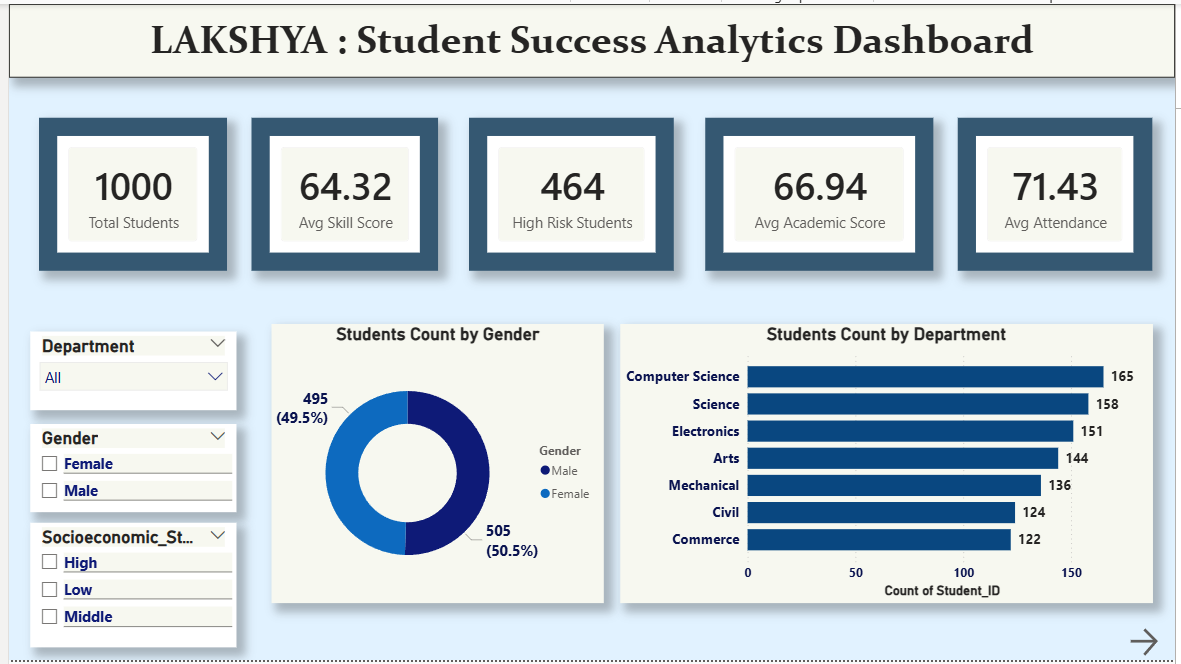

The dashboard page shown, as its layout file describes it:
{"tool":"powerbi","page":{"name":"Page 1","canvas":[1280,720],"ordinal":0},"visuals":[{"type":"cardVisual","fields":{"Data":["Sheet1.Total Students"]},"box":[33.3,125,206.7,168.3],"z":0},{"type":"textbox","box":[0,0,1280.3,81],"z":1000},{"type":"cardVisual","fields":{"Data":["Sheet1.Avg Academic Score"]},"box":[765,125,250,168.3],"z":2000},{"type":"cardVisual","fields":{"Data":["Sheet1.High Risk Students"]},"box":[505,125,225,168.3],"z":3000},{"type":"cardVisual","fields":{"Data":["Sheet1.Avg Attendance"]},"box":[1041.7,125,213.3,168.3],"z":4000},{"type":"cardVisual","fields":{"Data":["Sheet1.Avg Skill Score"]},"box":[266.7,125,205,168.3],"z":5000},{"type":"slicer","fields":{"Values":["Sheet1.Department"]},"box":[23.3,360,226.7,86.7],"z":6000},{"type":"slicer","fields":{"Values":["Sheet1.Gender"]},"box":[23.3,461.7,226.7,96.7],"z":7000},{"type":"slicer","fields":{"Values":["Sheet1.Socioeconomic_Status"]},"box":[23.3,570,226.7,136.7],"z":8000},{"type":"donutChart","title":"Students Count by Gender","fields":{"Category":["Sheet1.Gender"],"Y":["CountNonNull(Sheet1.Student_ID)"]},"box":[288.2,351.3,365,306],"z":9000},{"type":"clusteredBarChart","title":"Students Count by Department","fields":{"Category":["Sheet1.Department"],"Y":["CountNonNull(Sheet1.Student_ID)"]},"box":[671,351.3,584.6,306],"z":10000},{"type":"actionButton","box":[1225.4,680.6,54.9,39.8],"z":11000}]}

Visuals, with their boxes in screenshot pixels (x1, y1, x2, y2), scaled from the page's 1280x720 canvas onto the 1181x664 screenshot:
cardVisual - Sheet1.Total Students: box(31, 115, 221, 270)
textbox: box(0, 0, 1180, 75)
cardVisual - Sheet1.Avg Academic Score: box(706, 115, 936, 270)
cardVisual - Sheet1.High Risk Students: box(466, 115, 674, 270)
cardVisual - Sheet1.Avg Attendance: box(961, 115, 1158, 270)
cardVisual - Sheet1.Avg Skill Score: box(246, 115, 435, 270)
slicer - Sheet1.Department: box(21, 332, 231, 412)
slicer - Sheet1.Gender: box(21, 426, 231, 515)
slicer - Sheet1.Socioeconomic_Status: box(21, 526, 231, 652)
"Students Count by Gender" donutChart: box(266, 324, 603, 606)
"Students Count by Department" clusteredBarChart: box(619, 324, 1158, 606)
actionButton: box(1131, 628, 1180, 663)
